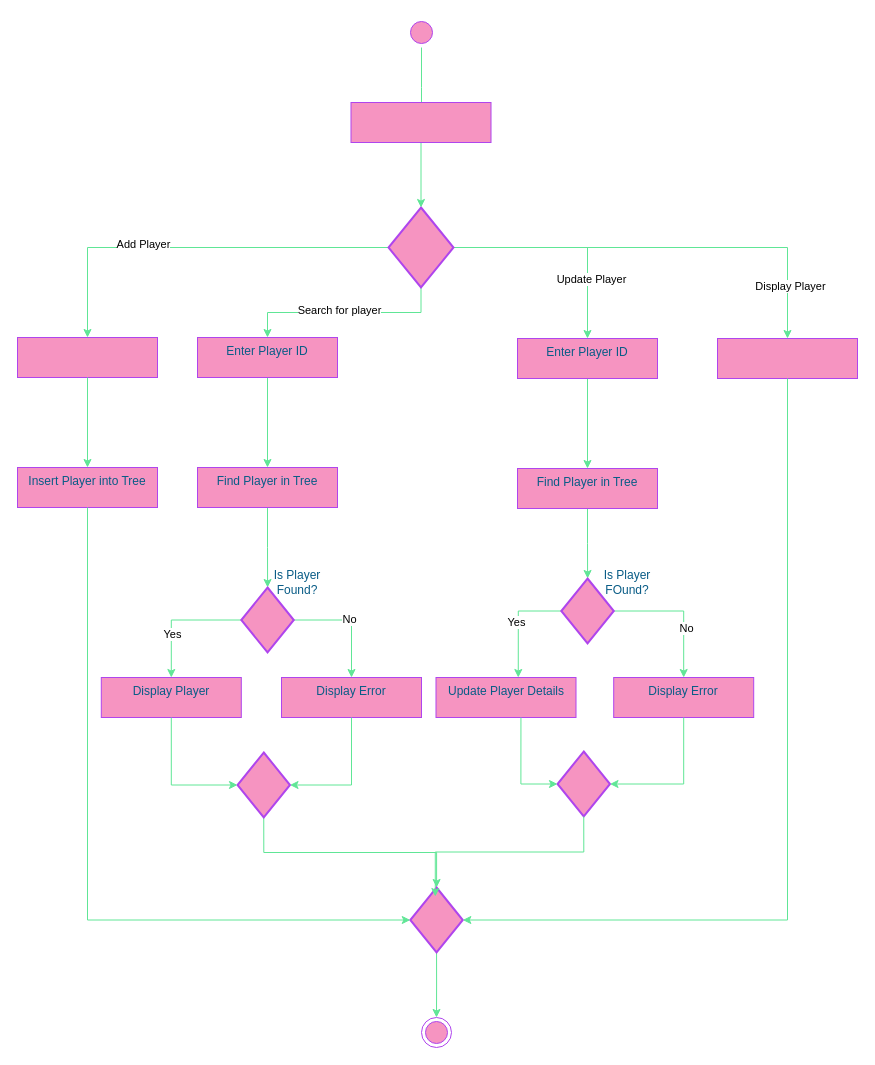
Some shapes in this 875 by 1065 pixel diagram are drawn without their labels. The box of each missing label's shape, as (x1, y1, x2, y2) in pixels:
Display in Tree: (716, 338, 858, 378)
Enter Player Details: (16, 336, 158, 378)
Open Player Management: (350, 102, 491, 142)
